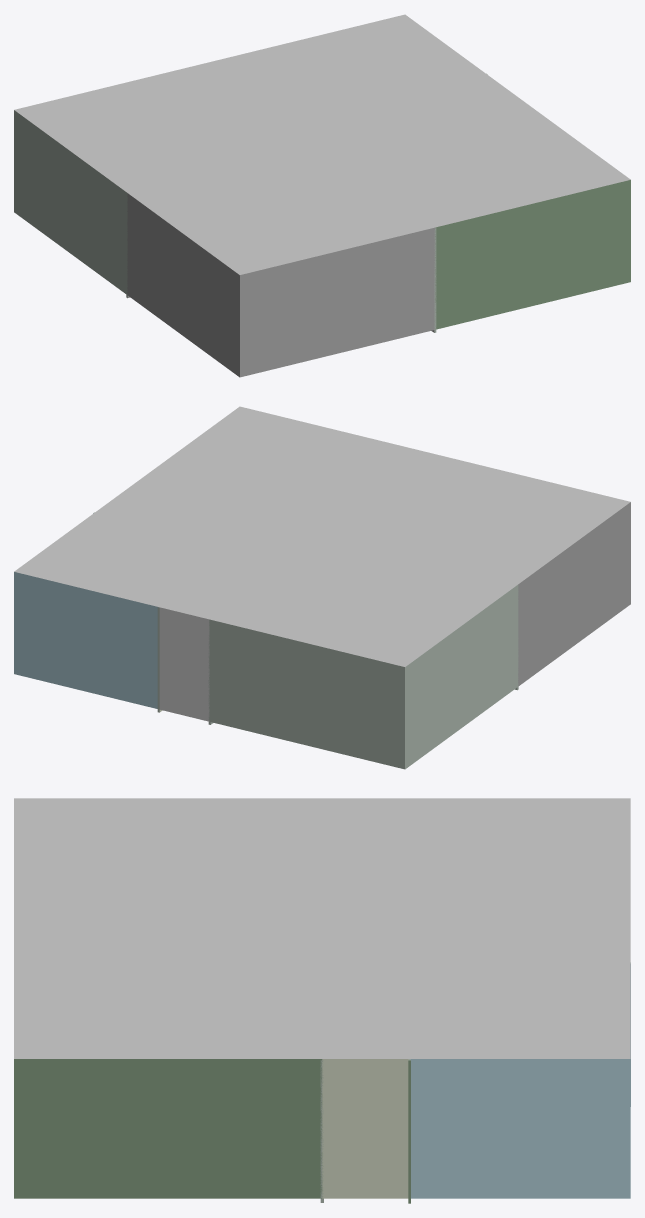
Rendered from RoomWalls.fbx.
The picture shows the model from 3 angles, top to bottom: view 1: azimuth 30°, elevation 25°; view 2: azimuth 150°, elevation 25°; view 3: azimuth 270°, elevation 25°; orthographic projection. The views are drawn at different scales.
Visible parts, largest first — view 1: Cube.005; view 2: Cube.005; view 3: Cube.005.
Part boxes in pixels (x1=…): Cube.005: x1=14, y1=14, x2=630, y2=377; Cube.005: x1=14, y1=406, x2=630, y2=769; Cube.005: x1=14, y1=798, x2=630, y2=1203.
Size of the model in its own units: 1003 by 257 by 1000.
